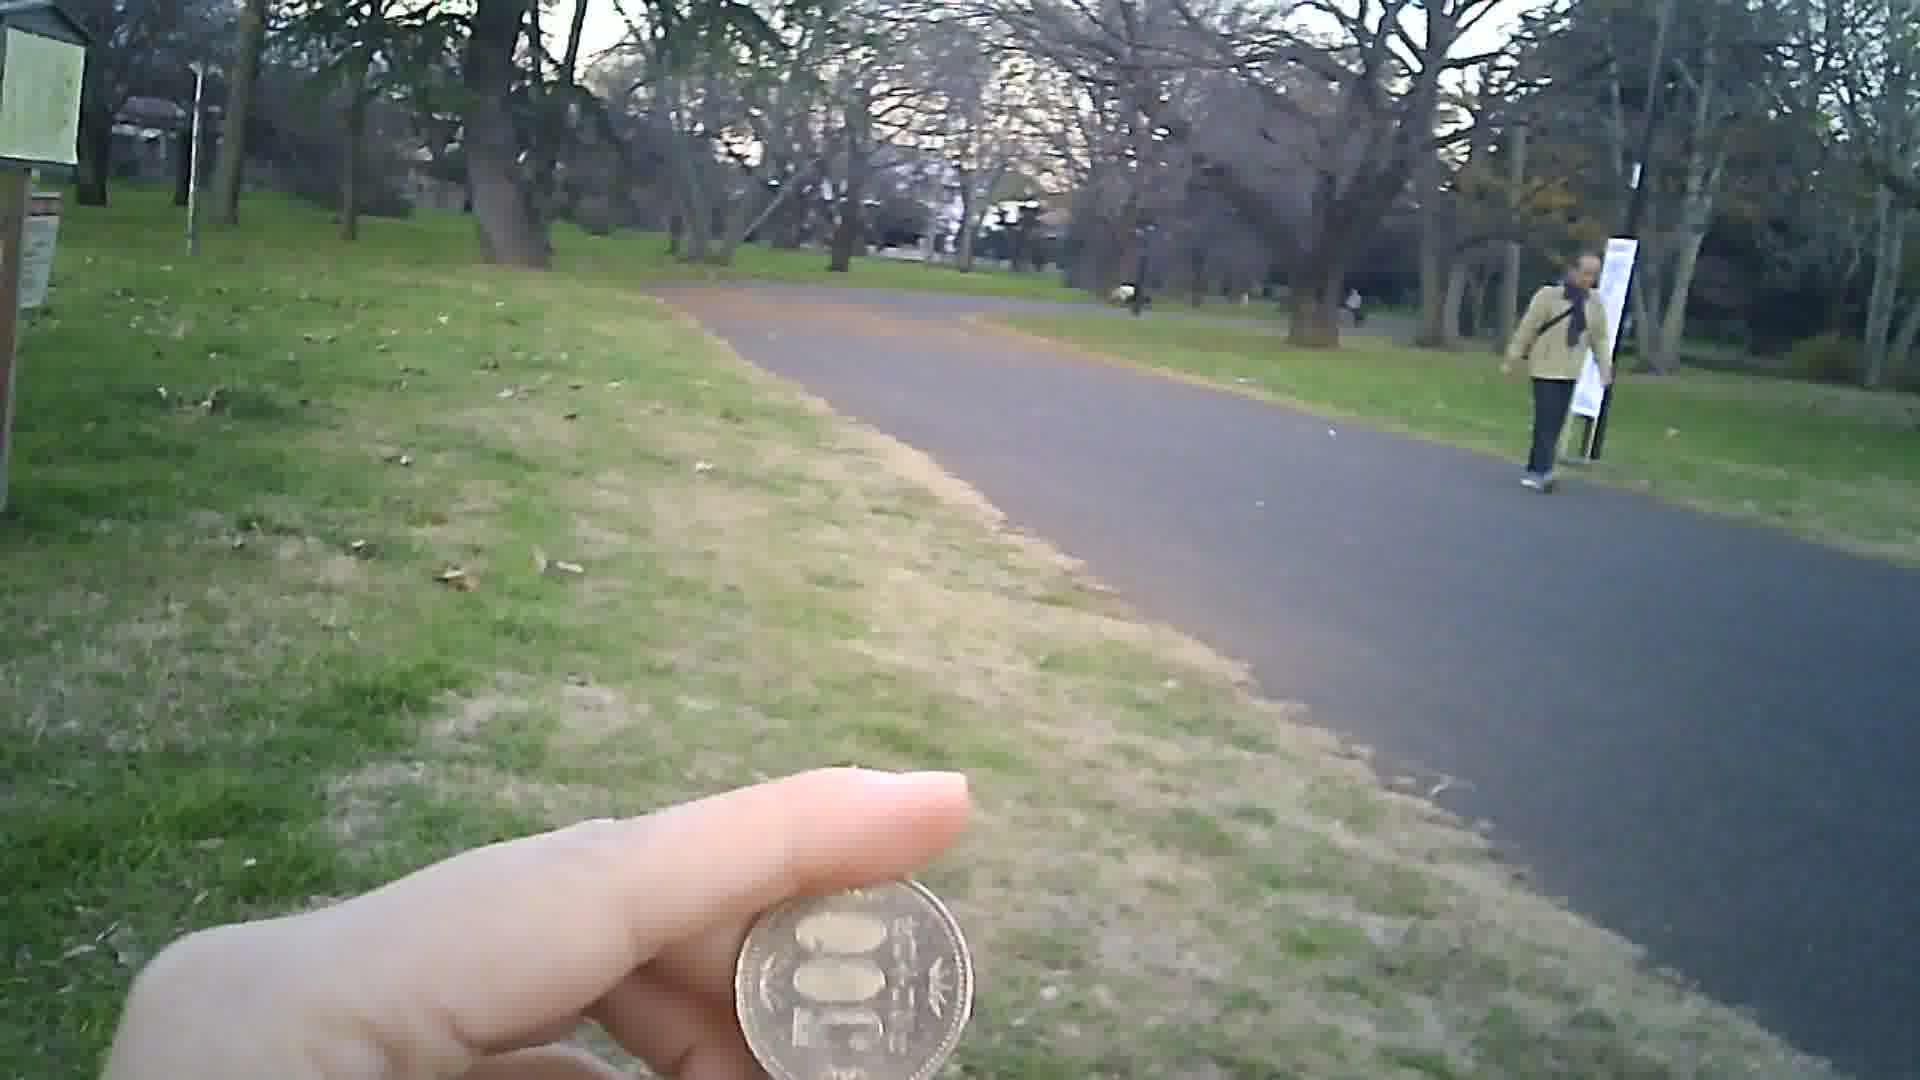500 Yen: (735, 844, 967, 1079)
